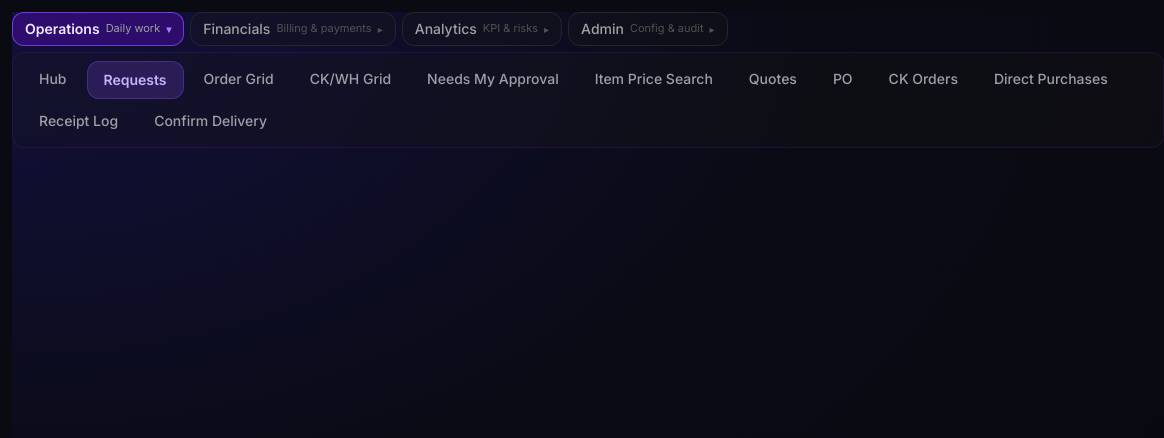
ProcurementTabs › Tabs visible for HQ (full access) › shows Invoices in Financials group
Click the text "Financials".
click(237, 29)  # box [203,19,270,39]
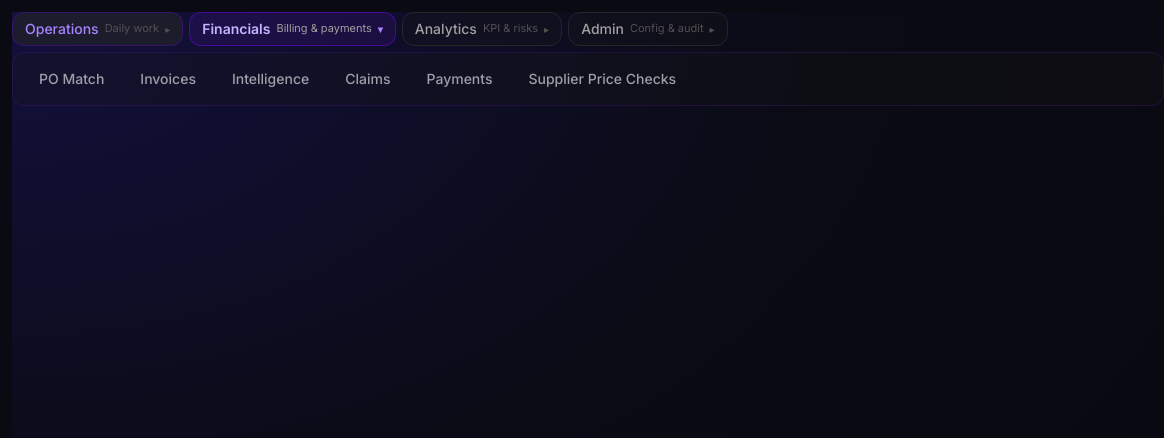
Expected: the link "Invoices" is shown, [140,70,196,87]
